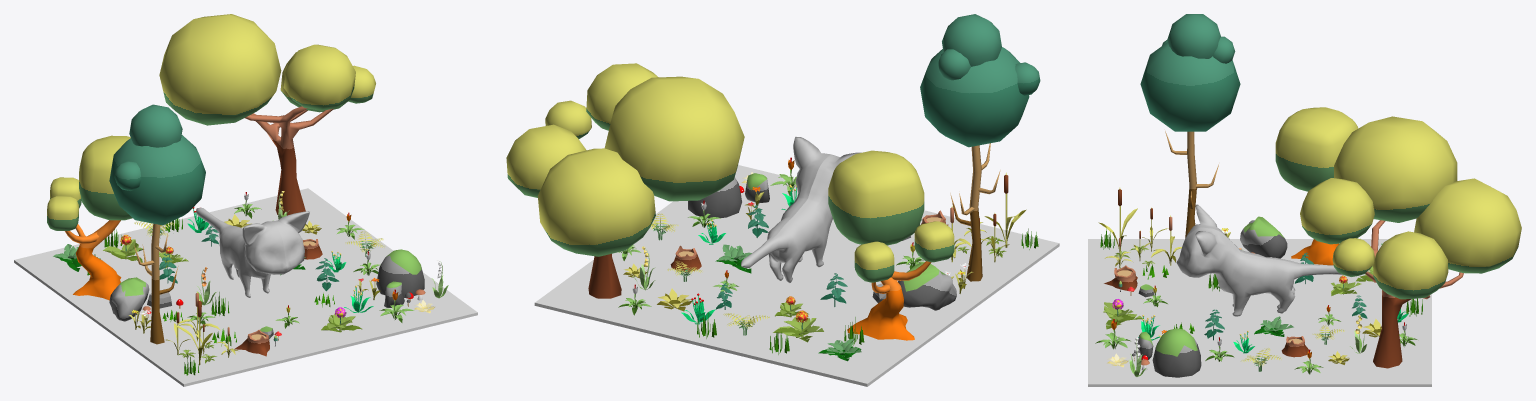
Rendered from LeopardCat_Draw.fbx.
3 renders of one model, left to right at view 1: azimuth 30°, elevation 25°; view 2: azimuth 150°, elevation 25°; view 3: azimuth 270°, elevation 25°, orthographic. The views are drawn at different scales.
Visible parts, largest first — view 1: LeopardCat_Plane, LeopardCat_Draw; view 2: LeopardCat_Plane, LeopardCat_Draw; view 3: LeopardCat_Plane, LeopardCat_Draw.
Part boxes in pixels (bbox=[...]): LeopardCat_Plane: bbox=[14, 14, 477, 386]; LeopardCat_Draw: bbox=[196, 207, 309, 297]; LeopardCat_Plane: bbox=[506, 14, 1059, 386]; LeopardCat_Draw: bbox=[741, 137, 861, 282]; LeopardCat_Plane: bbox=[1088, 14, 1521, 386]; LeopardCat_Draw: bbox=[1176, 204, 1343, 316].
Size of the model in its own units: 1518 by 979 by 1613.
